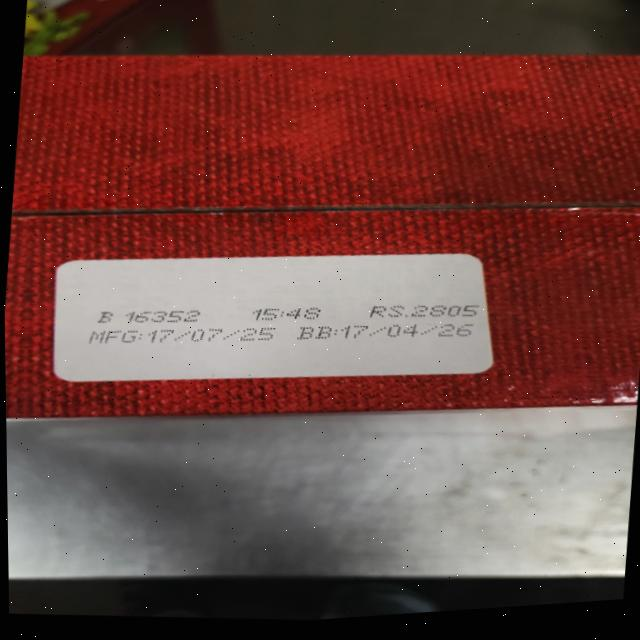BB: (294, 308, 479, 357)
Batch: (93, 301, 202, 331)
MFG: (92, 312, 274, 358)
RS: (369, 295, 482, 326)
TimeStamp: (251, 301, 322, 325)
